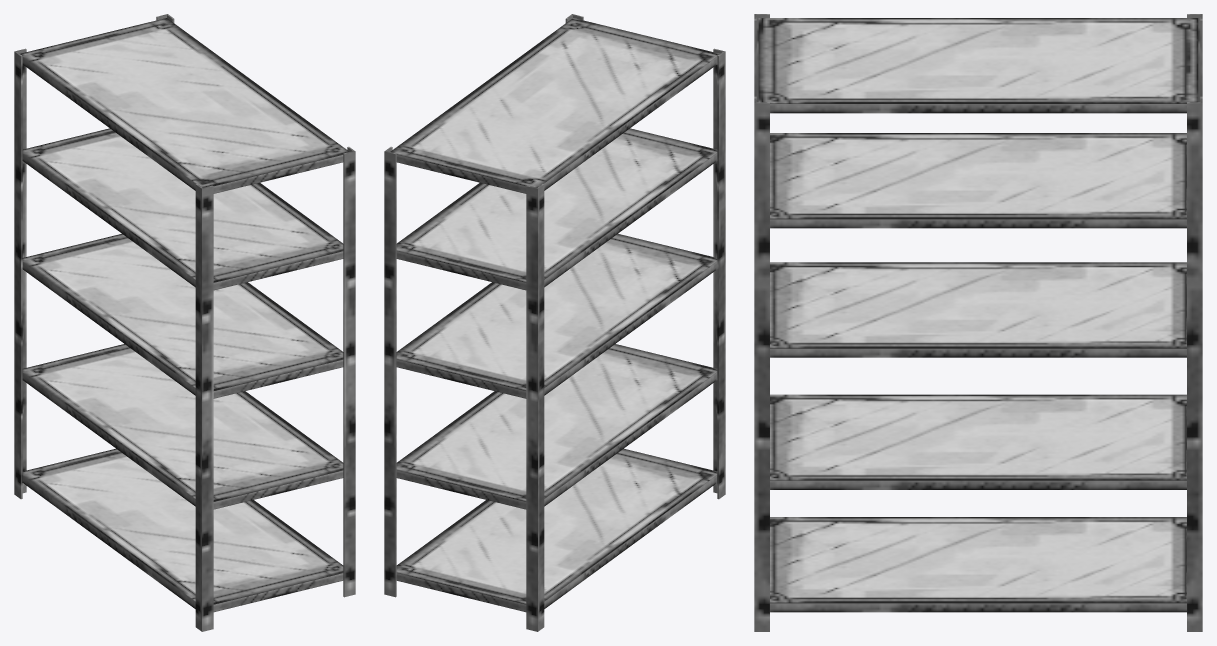
File: Shelf.fbx
3 renders of one model, left to right at view 1: azimuth 30°, elevation 25°; view 2: azimuth 150°, elevation 25°; view 3: azimuth 270°, elevation 25°, orthographic. The views are drawn at different scales.
Visible parts, largest first — view 1: Cube.008, Cube.003; view 2: Cube.008, Cube.003; view 3: Cube.008, Cube.003.
Part boxes in pixels (left/top/right/bottom): Cube.008: left=20, top=18, right=349, bottom=612; Cube.003: left=14, top=14, right=355, bottom=631; Cube.008: left=390, top=18, right=719, bottom=612; Cube.003: left=384, top=14, right=725, bottom=631; Cube.008: left=758, top=18, right=1198, bottom=612; Cube.003: left=754, top=14, right=1202, bottom=631.
Size of the model in its own units: 134 by 370 by 285.
